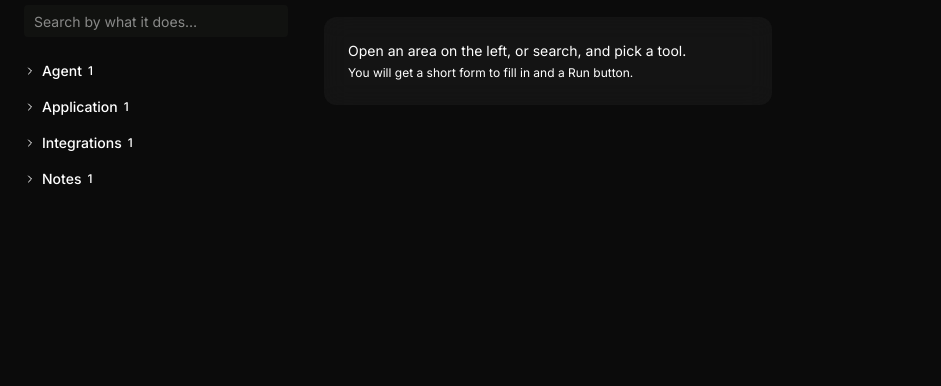
Test: ToolCatalogPanel › refuses to run with a missing required field and says so in words
Click the button "application 1" at x=80, y=106, box x1=12 y1=89 x2=300 y2=125
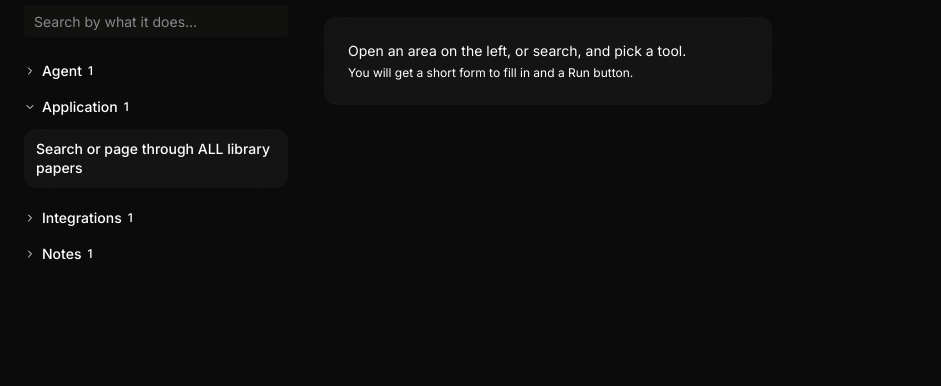
Click the button "Search or page through ALL library papers" at x=156, y=158, box x1=24 y1=129 x2=288 y2=188
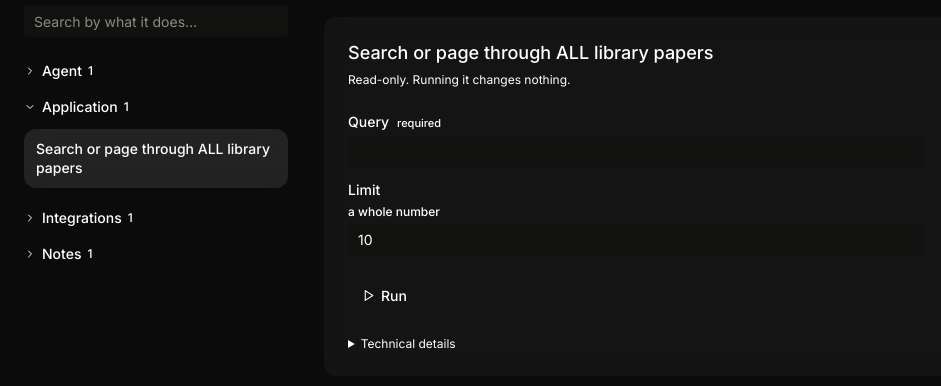
Expected: the number field labelled "Limit a whole number" holds "10", x1=348 y1=224 x2=924 y2=256
Click the button "Run" at x=384, y=296, box x1=348 y1=280 x2=421 y2=312
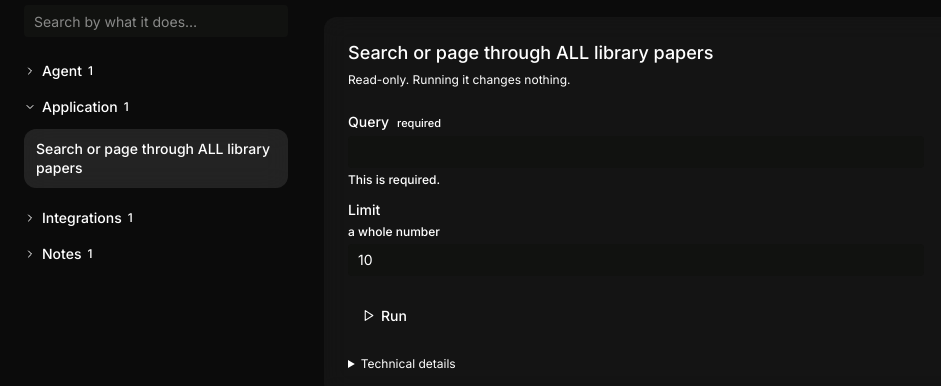
Expected: the message reads "This is required.", x1=348 y1=172 x2=440 y2=187
